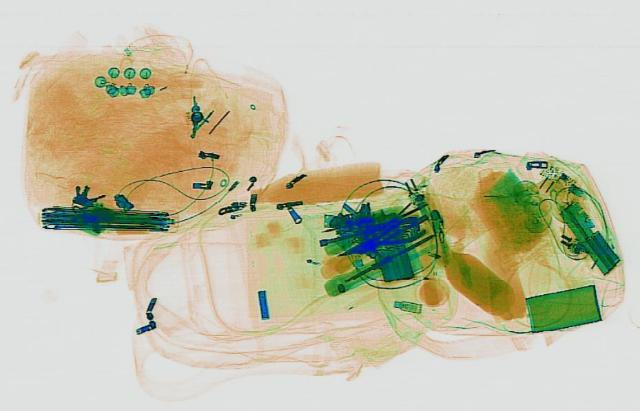Pliers: (326, 211, 434, 265)
